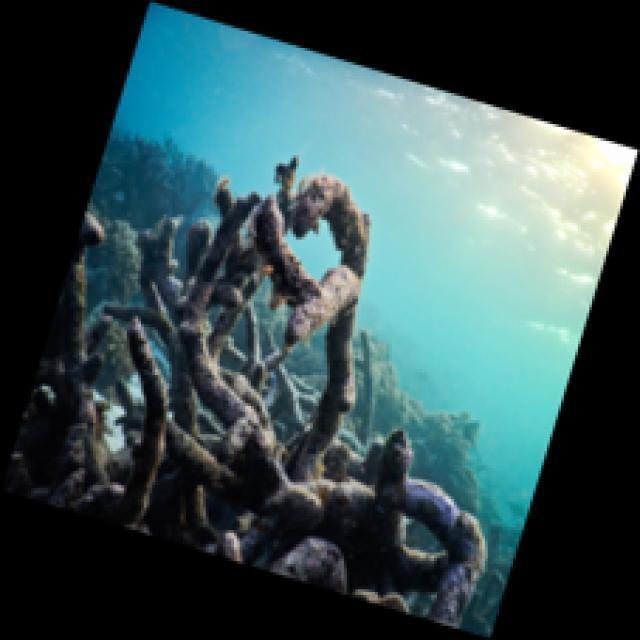Dead Coral: (40, 139, 465, 509)
